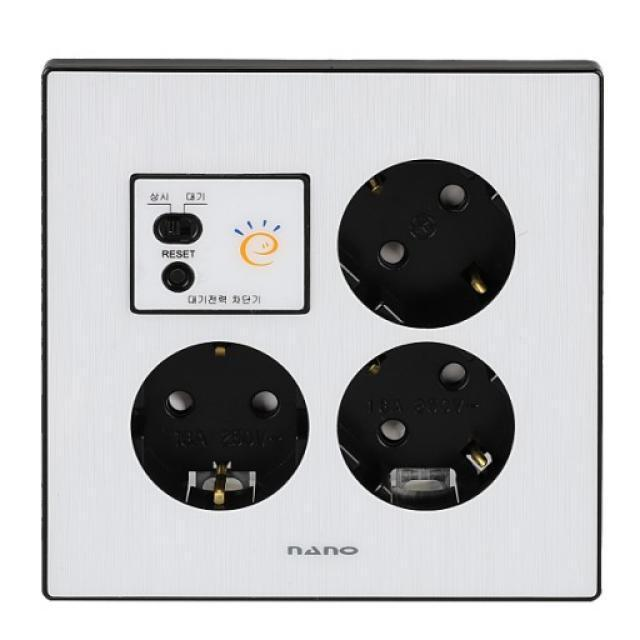typeb: (28, 48, 611, 613)
